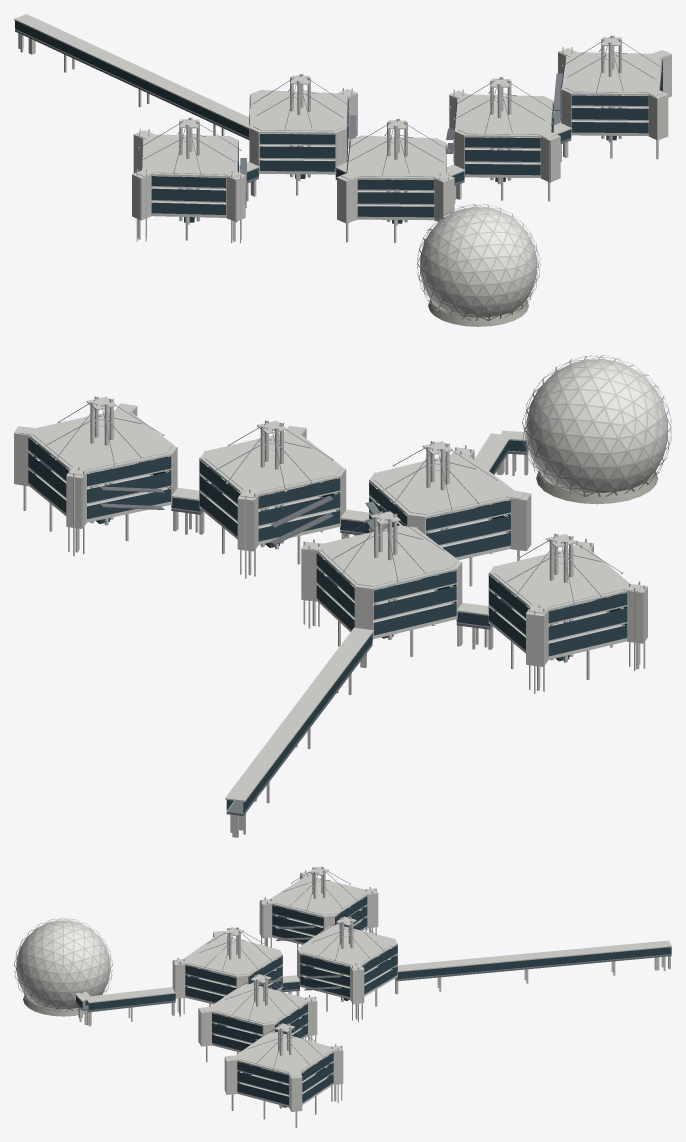
The model's file is cinesphere-far.glb.
3 renders of one model, top to bottom at view 1: azimuth 30°, elevation 25°; view 2: azimuth 150°, elevation 25°; view 3: azimuth 270°, elevation 25°, orthographic. The views are drawn at different scales.
Parts seen in each view (by area): view 1: cinesphere-0-white, cinesphere-0-glass, cinesphere-0-panel, cinesphere-0-frame, cinesphere-0-deck, cinesphere-0-cable, cinesphere-0-concrete; view 2: cinesphere-0-white, cinesphere-0-glass, cinesphere-0-panel, cinesphere-0-frame, cinesphere-0-deck, cinesphere-0-cable, cinesphere-0-concrete; view 3: cinesphere-0-white, cinesphere-0-glass, cinesphere-0-panel, cinesphere-0-frame, cinesphere-0-deck, cinesphere-0-cable, cinesphere-0-concrete.
Boxes of the visible parts, x1,y1,x2,y2 form: cinesphere-0-white: (14,14,671,245); cinesphere-0-glass: (15,20,662,223); cinesphere-0-panel: (420,207,537,317); cinesphere-0-frame: (416,203,540,320); cinesphere-0-deck: (15,29,571,207); cinesphere-0-cable: (140,42,660,174); cinesphere-0-concrete: (428,299,528,326); cinesphere-0-white: (14,396,647,837); cinesphere-0-glass: (28,437,627,812); cinesphere-0-panel: (526,359,668,492); cinesphere-0-frame: (522,355,671,496); cinesphere-0-deck: (99,447,528,816); cinesphere-0-cable: (47,400,621,603); cinesphere-0-concrete: (536,471,658,504); cinesphere-0-white: (75,866,671,1127); cinesphere-0-glass: (76,896,671,1107); cinesphere-0-panel: (16,920,110,1009); cinesphere-0-frame: (14,918,112,1011); cinesphere-0-deck: (76,926,671,1064); cinesphere-0-cable: (200,868,382,1068); cinesphere-0-concrete: (23,994,84,1016).
Size of the model in its own units: 178 by 32 by 239.
